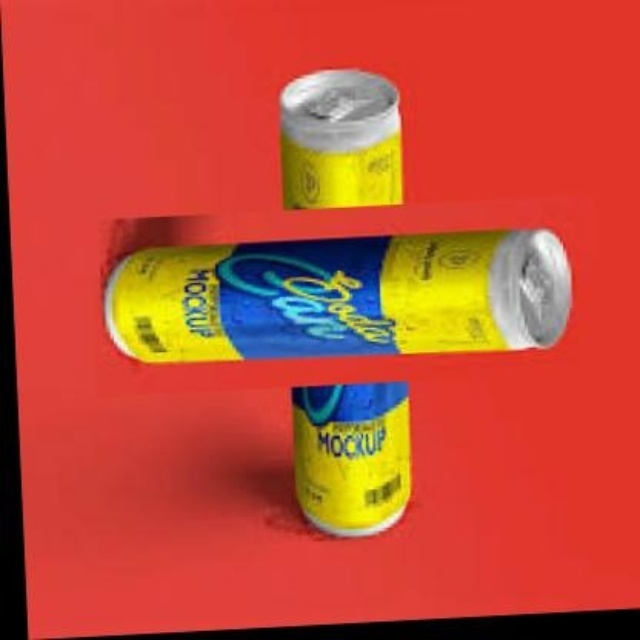trash: (105, 229, 569, 362), (292, 382, 409, 534), (280, 69, 402, 208)
